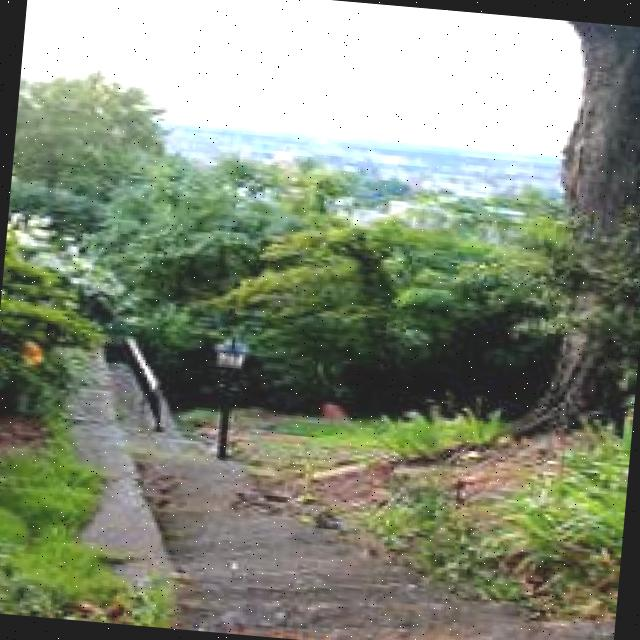stairs: (52, 342, 632, 640)
